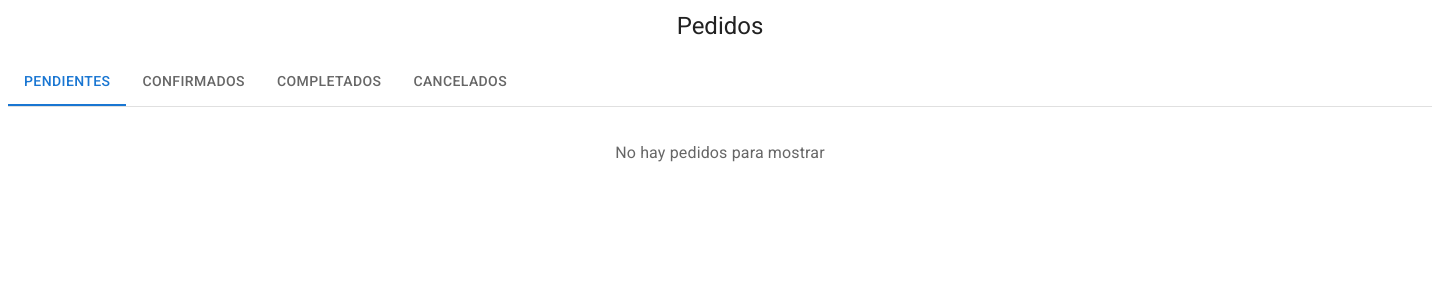
Pedido tests › Confirmados: McDonald’s y Restaurante Italiano
Click the tab "Confirmados" at (194, 82), box x1=126 y1=58 x2=261 y2=106
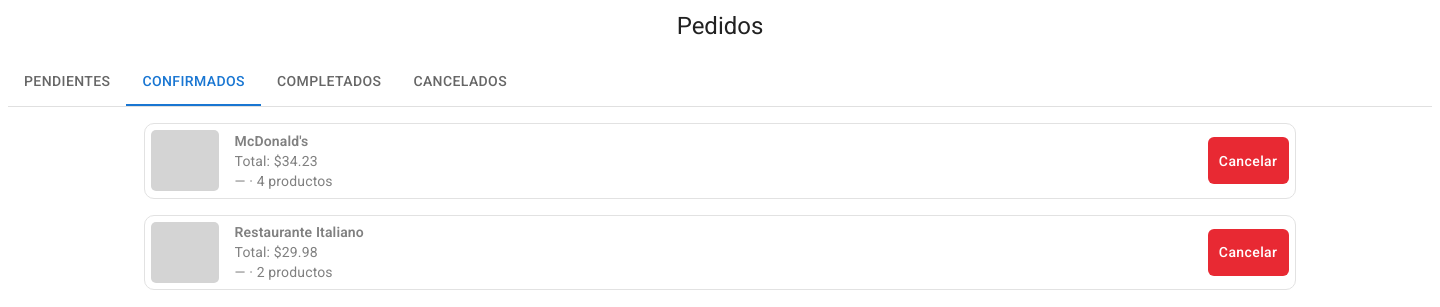
Now the text "McDonald's" is shown, box x1=235 y1=133 x2=308 y2=149
Now the text "Restaurante Italiano" is shown, box x1=235 y1=224 x2=364 y2=240
